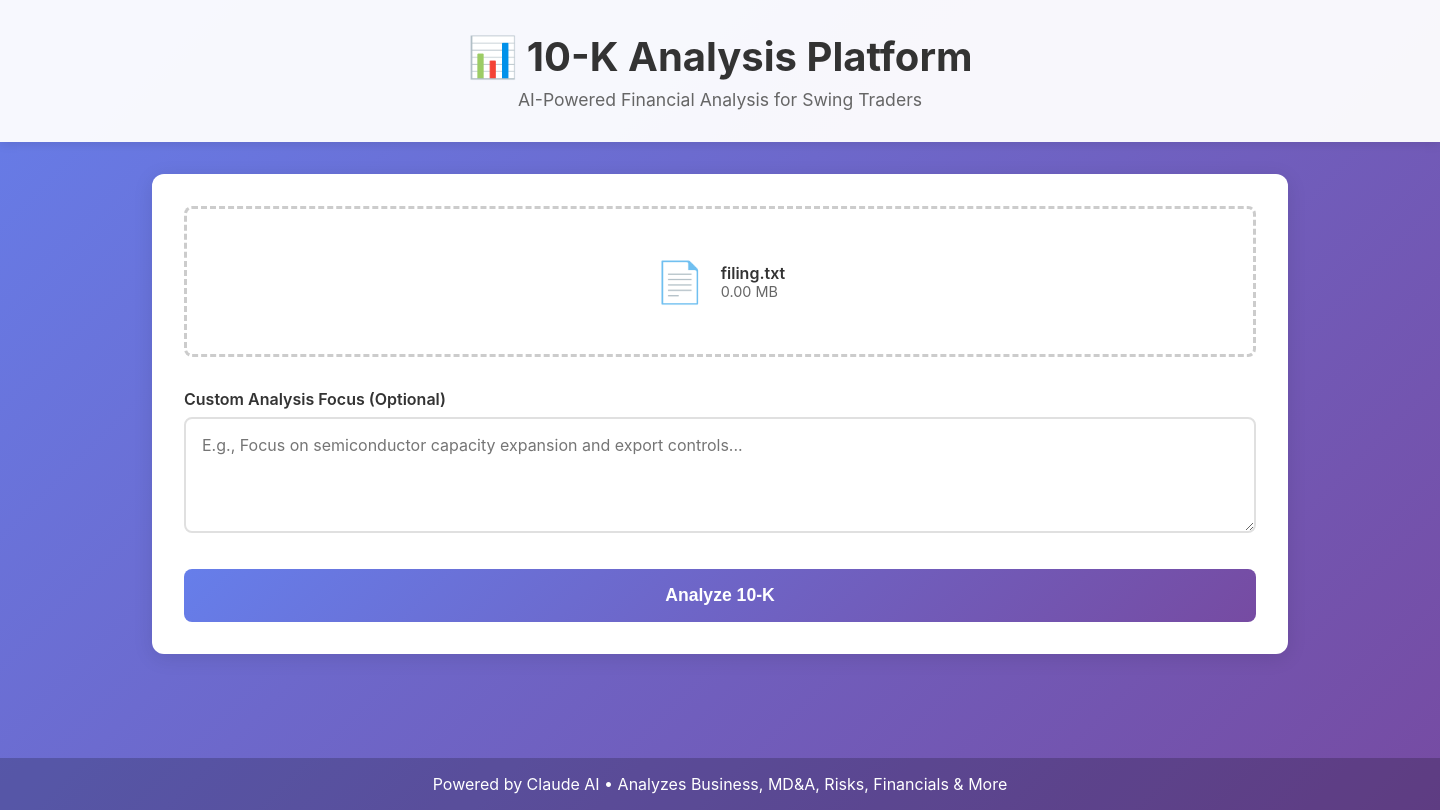
runs the upload -> poll -> results flow
Earlier steps of the test are not shown.
Click the button "Analyze 10-K" at (720, 596), box x1=184 y1=569 x2=1256 y2=622
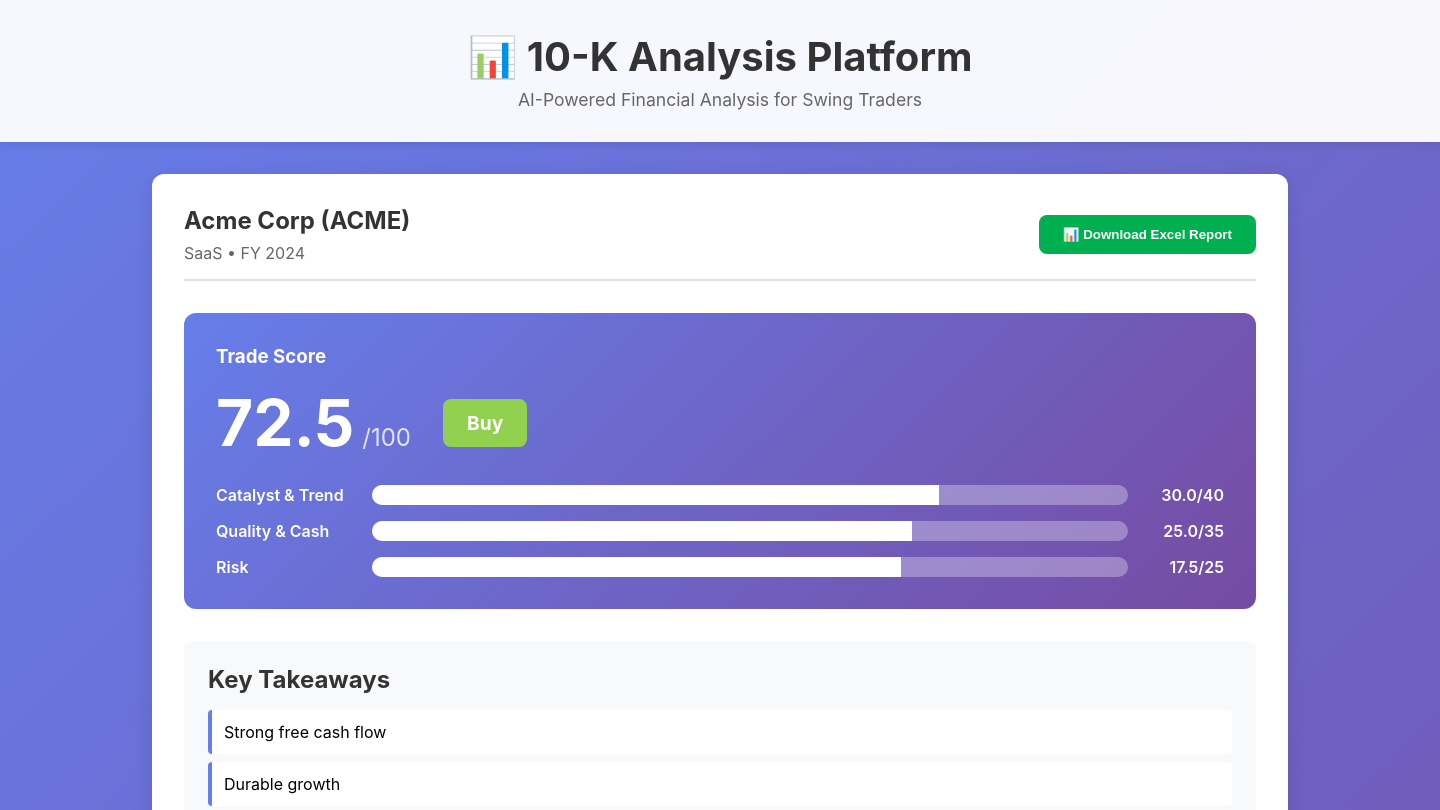
Now the heading "Acme Corp (ACME)" is shown, box x1=184 y1=206 x2=410 y2=235
Now the text "Buy" is shown, box x1=443 y1=398 x2=527 y2=446
Now the list item "Strong free cash flow" is shown, box x1=208 y1=710 x2=1232 y2=754
